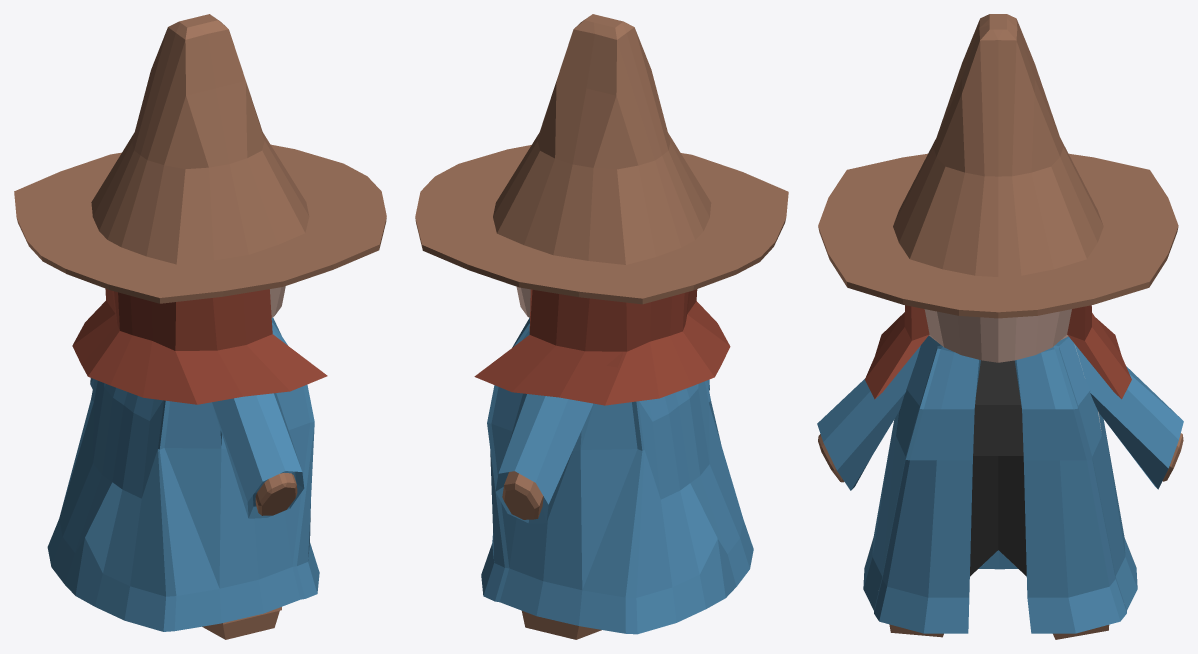
The model's file is low_poly_mage.glb.
The picture shows the model from 3 angles, left to right: view 1: azimuth 30°, elevation 25°; view 2: azimuth 150°, elevation 25°; view 3: azimuth 270°, elevation 25°; orthographic projection. The views are drawn at different scales.
Parts seen in each view (by area): view 1: Cube_0; view 2: Cube_0; view 3: Cube_0.
Part boxes in pixels (x1,y1,x2,y2): Cube_0: (14, 14, 386, 639); Cube_0: (415, 14, 788, 639); Cube_0: (817, 14, 1183, 639).
Bounding box in the file's own units: 3.2 × 5.46 × 3.
